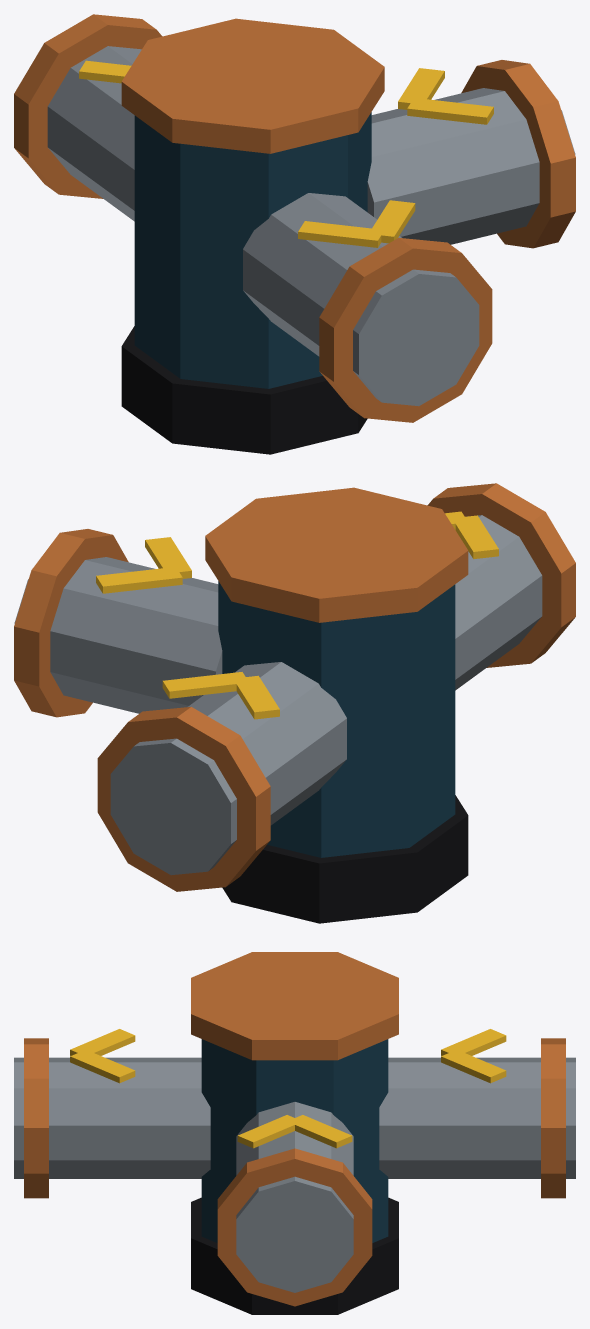
The model's file is pipe_tee_l.obj.
3 views of the same model, one above another, from view 1: azimuth 30°, elevation 25°; view 2: azimuth 150°, elevation 25°; view 3: azimuth 270°, elevation 25° (orthographic). The views are drawn at different scales.
Parts seen in each view (by area): view 1: Pipe, Arrows; view 2: Pipe, Arrows; view 3: Pipe, Arrows.
Boxes of the visible parts, box(x1,y1,x2,y2) form: Pipe: box(14, 14, 575, 454); Arrows: box(79, 60, 493, 247); Pipe: box(14, 483, 575, 923); Arrows: box(96, 511, 498, 719); Pipe: box(14, 952, 575, 1314); Arrows: box(70, 1029, 506, 1148).
Bounding box in the file's own units: 0.6848 × 0.54 × 1.
